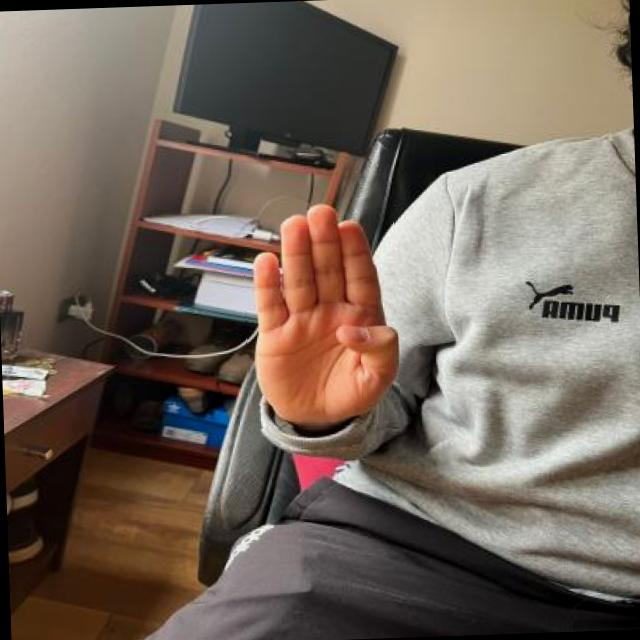B: (241, 197, 401, 430)
